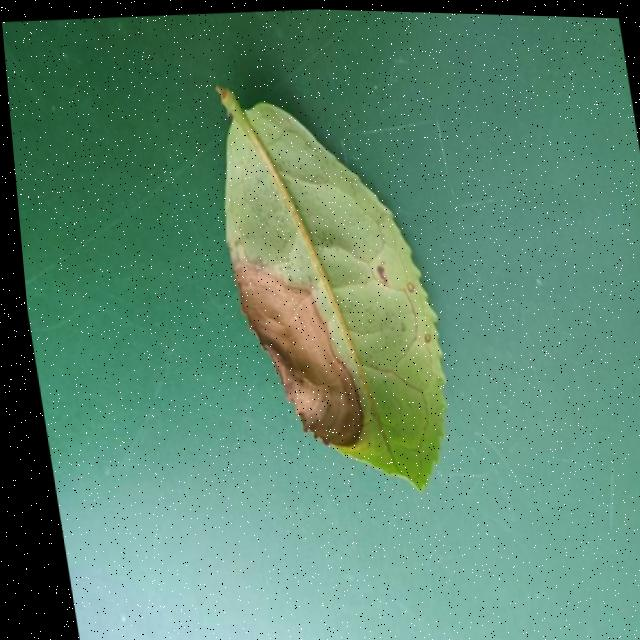Tea cloud leaf blight: (230, 254, 359, 463)
